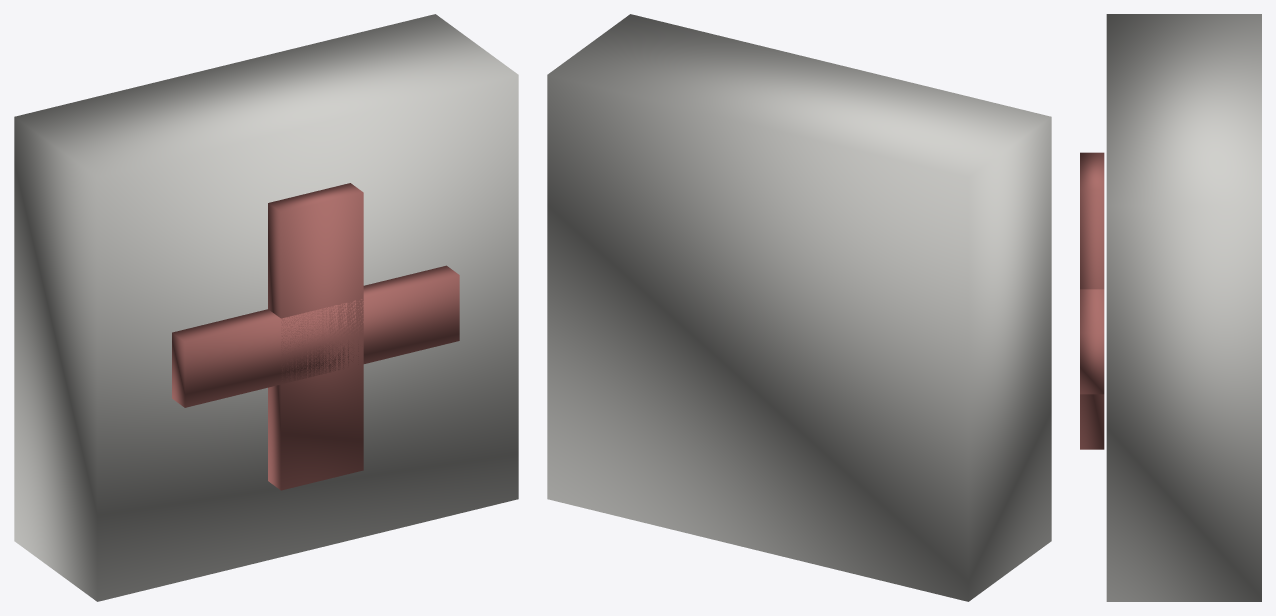
The model's file is first_aid_wall_cabinet__squat.glb.
3 renders of one model, left to right at view 1: azimuth 30°, elevation 25°; view 2: azimuth 150°, elevation 25°; view 3: azimuth 270°, elevation 25°, orthographic. The views are drawn at different scales.
Visible parts, largest first — view 1: world; view 2: world; view 3: world.
Part boxes in pixels (x1,y1,x2,y2): world: (14, 14, 518, 601); world: (547, 14, 1051, 601); world: (1080, 14, 1261, 601).
Bounding box in the file's own units: 0.506 × 0.4872 × 0.2025.
